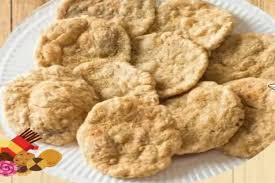Pempek kulit: (81, 96, 180, 176), (4, 67, 93, 144), (34, 11, 132, 71), (176, 77, 250, 152), (131, 27, 209, 89), (152, 0, 234, 49), (74, 56, 157, 103)
